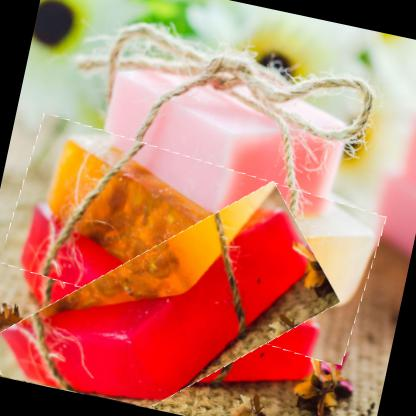soap: (0, 118, 389, 361), (0, 174, 351, 415)
